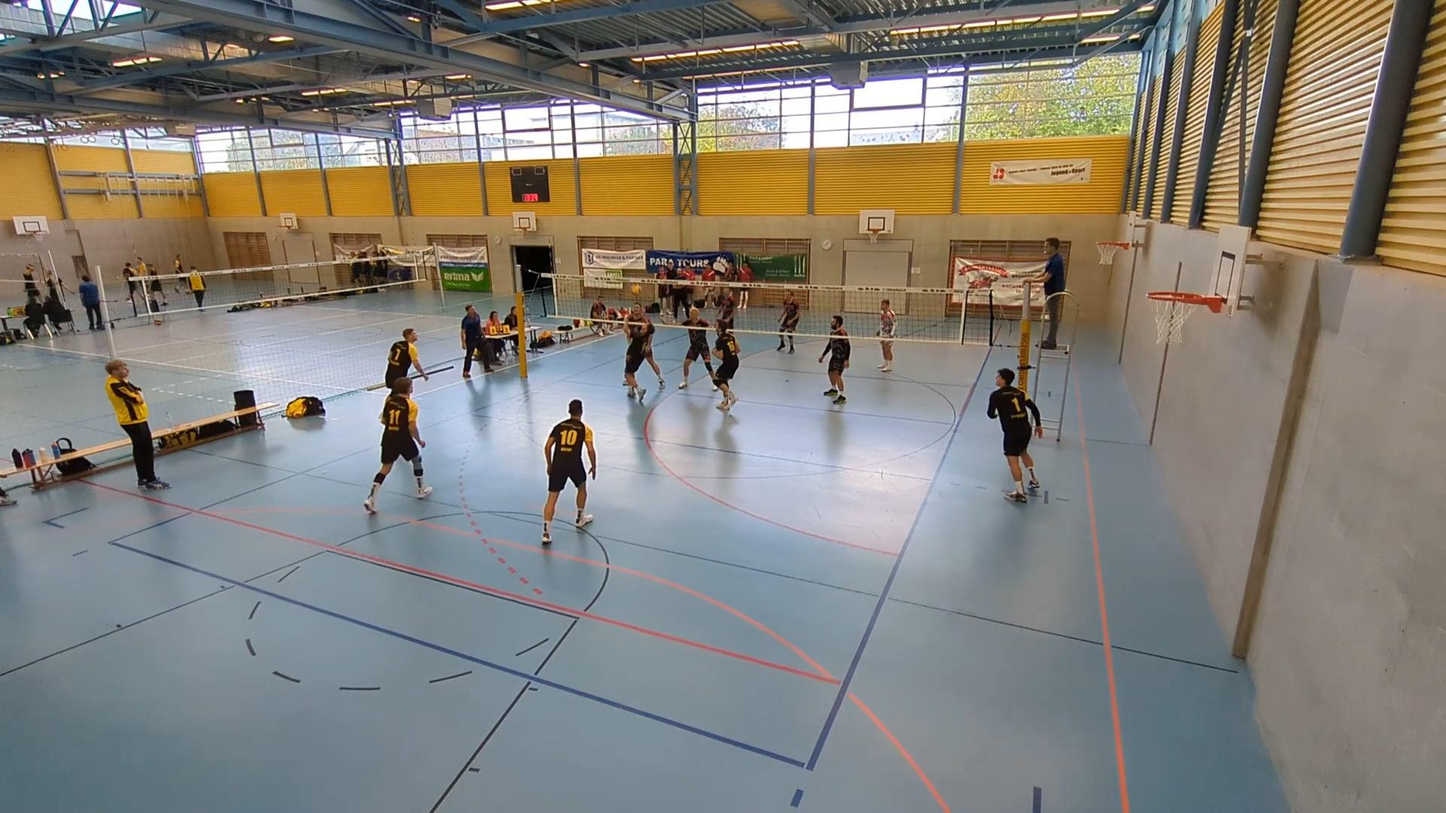Player: (364, 375, 432, 512), (541, 400, 596, 544), (987, 368, 1042, 502), (679, 308, 714, 388), (819, 315, 850, 403), (623, 306, 651, 400), (383, 327, 428, 385), (713, 321, 739, 411), (776, 291, 800, 353), (876, 299, 895, 371)
Set: (623, 305, 656, 401)
ball: (628, 283, 645, 293)
